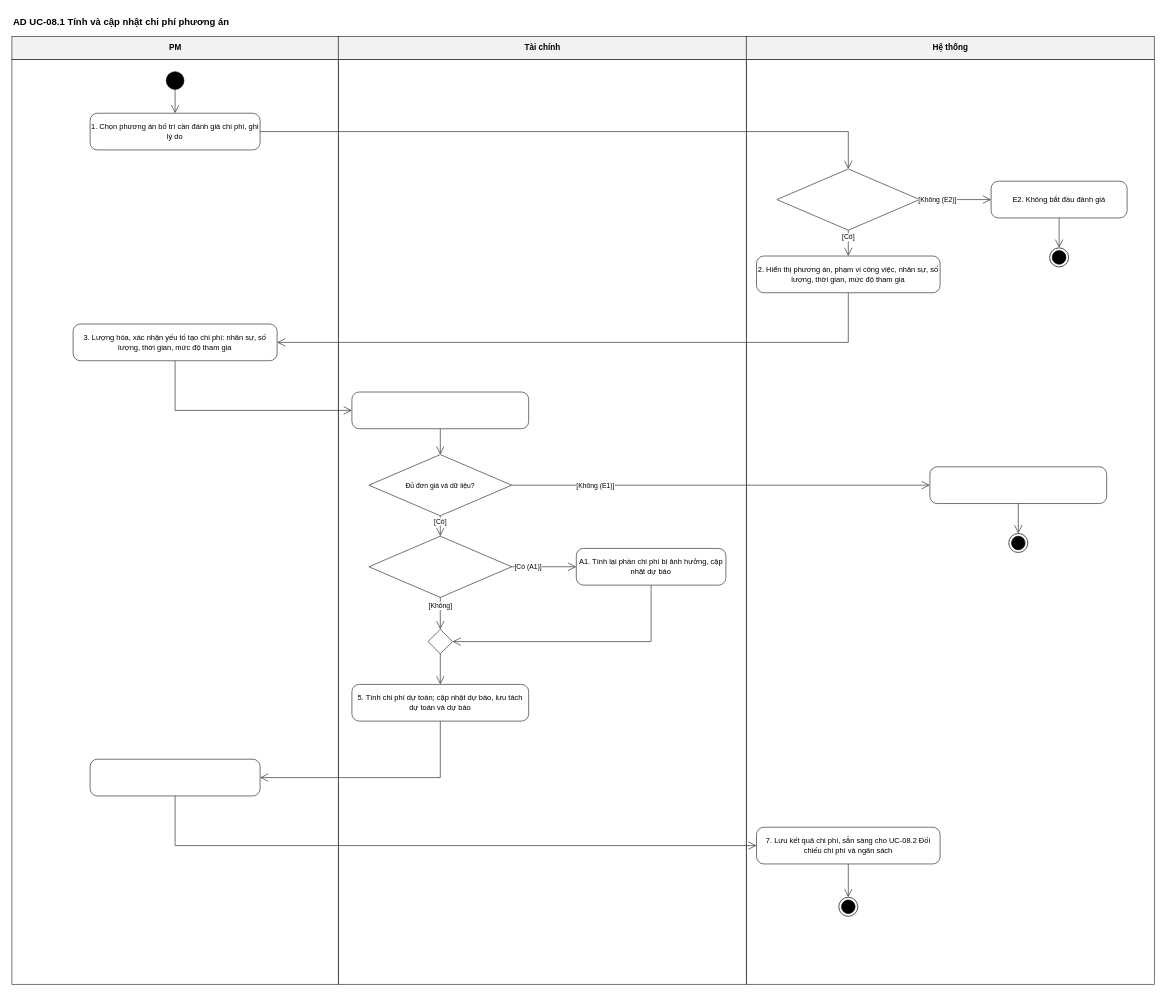
Some shapes in this 1166 by 996 pixel diagram are drawn without their labels. The centre of each missing label's shape, as x and y in pixels:
4. Cung cấp, cập nhật đơn giá; ghi nhận chi phí thực tế nếu đã phát sinh: the point at 440,410
6. Xem kết quả chi phí dự toán, dự báo của phương án: the point at 174,777
Có phương án và phạm vi công việc?: the point at 848,199
Có thay đổi hoặc lệch dự toán?: the point at 440,566
E1. Đánh dấu dữ liệu thiếu, yêu cầu Tài chính bổ sung; chưa kết luận chính thức: the point at 1018,485
